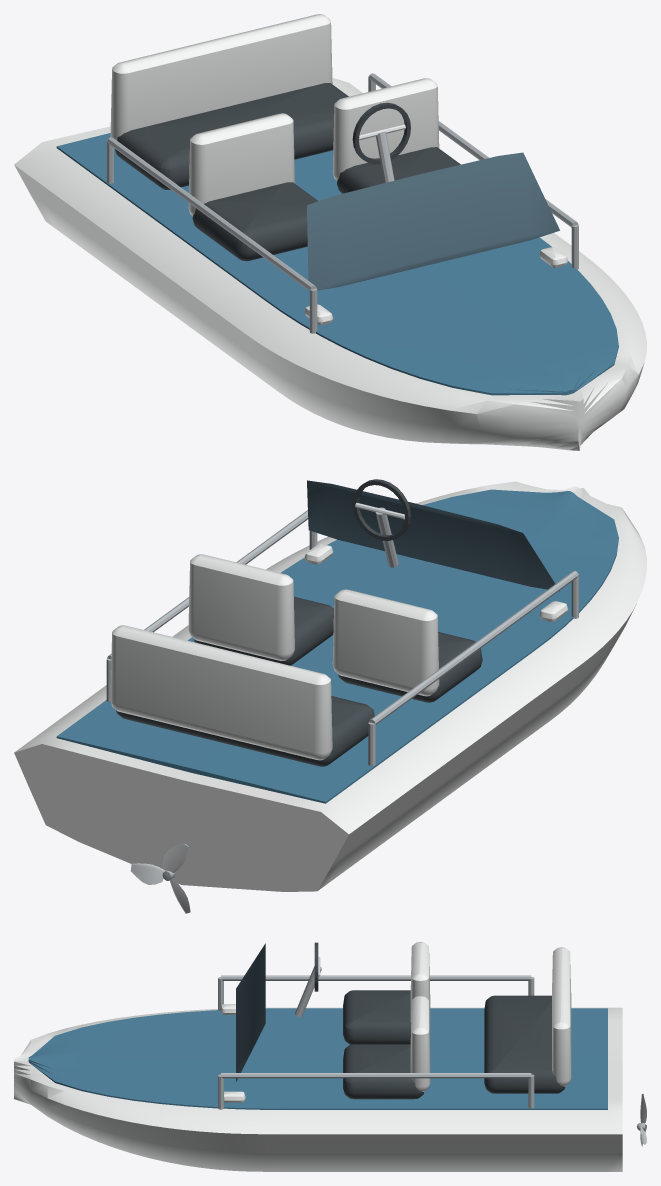
Rendered from powerboat-racing-and-launch-ramp-jet-sprint-boat-62a9bcd7__22253.glb.
The picture shows the model from 3 angles, top to bottom: view 1: azimuth 30°, elevation 25°; view 2: azimuth 150°, elevation 25°; view 3: azimuth 270°, elevation 25°; orthographic projection. The views are drawn at different scales.
Visible parts, largest first — view 1: jet-sprint-boat, steering-wheel; view 2: jet-sprint-boat, propeller, steering-wheel; view 3: jet-sprint-boat.
Boxes of the visible parts, bbox=[...] form: jet-sprint-boat: bbox=[14, 14, 646, 450]; steering-wheel: bbox=[352, 102, 410, 164]; jet-sprint-boat: bbox=[14, 480, 646, 891]; propeller: bbox=[130, 843, 190, 913]; steering-wheel: bbox=[352, 479, 410, 540]; jet-sprint-boat: bbox=[14, 942, 622, 1171].
Bounding box in the file's own units: 1.8 × 1.4 × 3.85.
